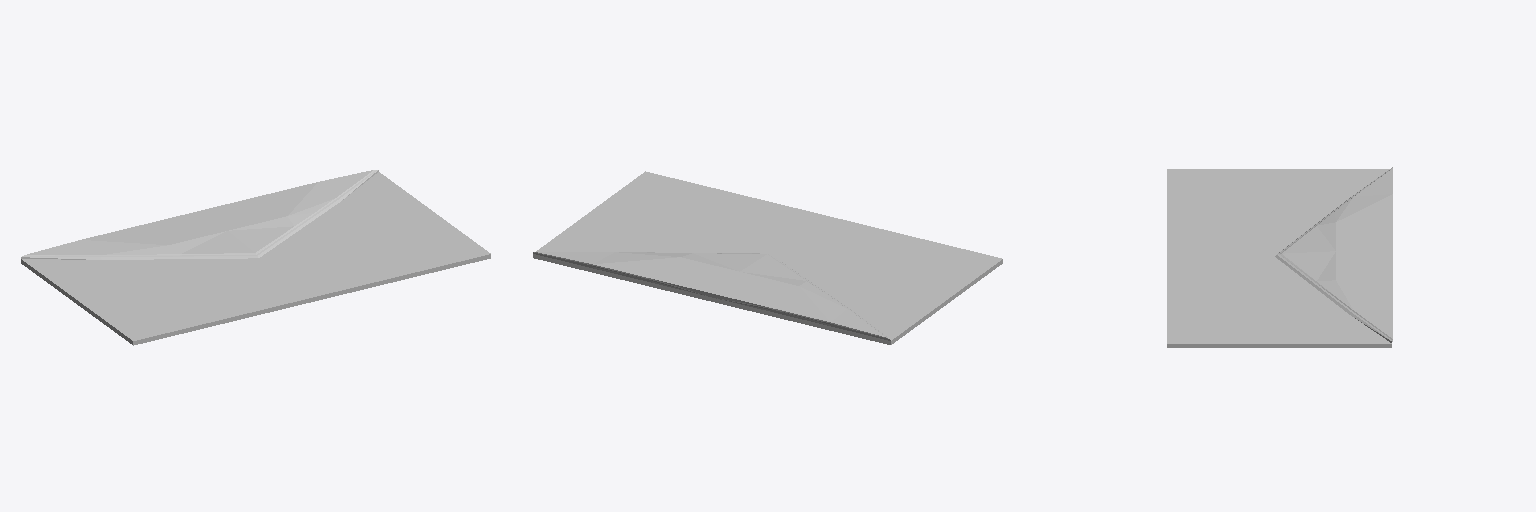
File: letter.obj
3 views of the same model, side by side, from view 1: azimuth 30°, elevation 25°; view 2: azimuth 150°, elevation 25°; view 3: azimuth 270°, elevation 25° (orthographic).
Visible parts, largest first — view 1: pCube6; view 2: pCube6; view 3: pCube6.
Part boxes in pixels (x1,y1,x2,y2): pCube6: (21, 170, 490, 345); pCube6: (533, 171, 1002, 344); pCube6: (1167, 167, 1392, 347).
Size of the model in its own units: 49.47 by 1.26 by 27.